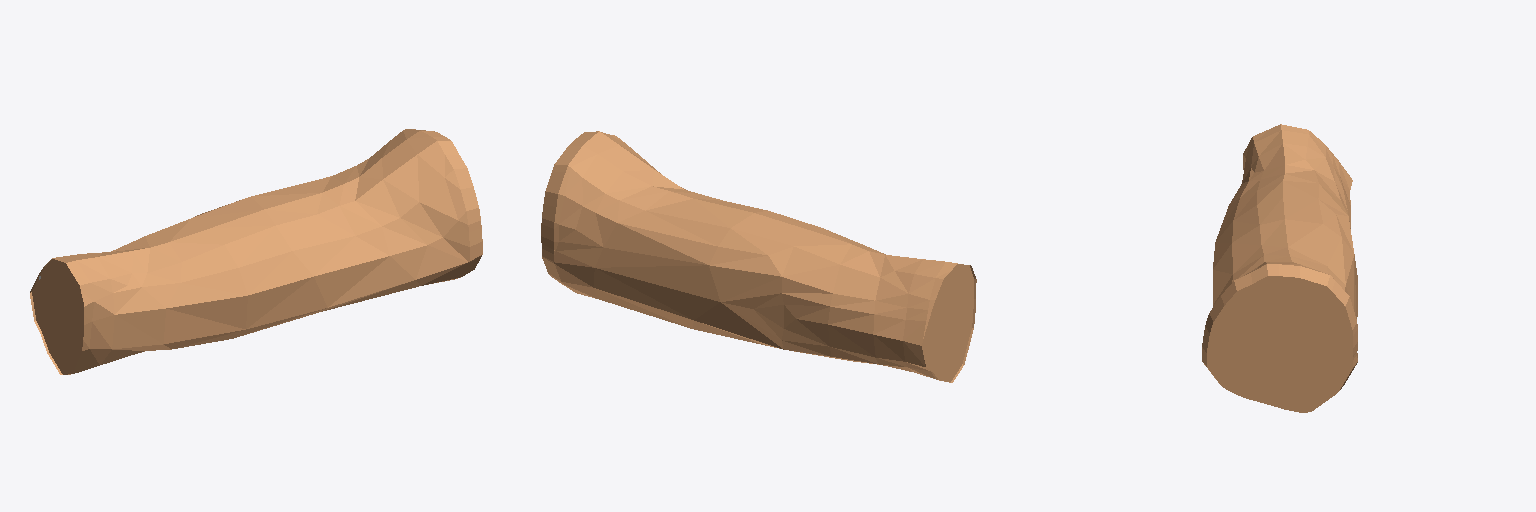
Rendered from leftshoder.obj.
The picture shows the model from 3 angles: view 1: azimuth 30°, elevation 25°; view 2: azimuth 150°, elevation 25°; view 3: azimuth 270°, elevation 25°; orthographic projection.
Parts seen in each view (by area): view 1: Mesh1 Model; view 2: Mesh1 Model; view 3: Mesh1 Model.
Boxes of the visible parts, x1=… form: Mesh1 Model: x1=30, y1=129, x2=482, y2=374; Mesh1 Model: x1=541, y1=131, x2=976, y2=382; Mesh1 Model: x1=1202, y1=124, x2=1357, y2=412.
Bounding box in the file's own units: 9.41 × 3.66 × 3.36.